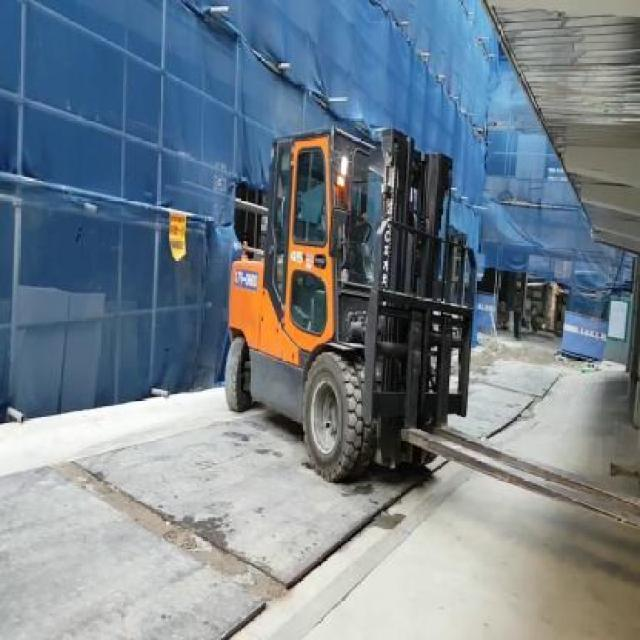forklift: (229, 127, 462, 476)
